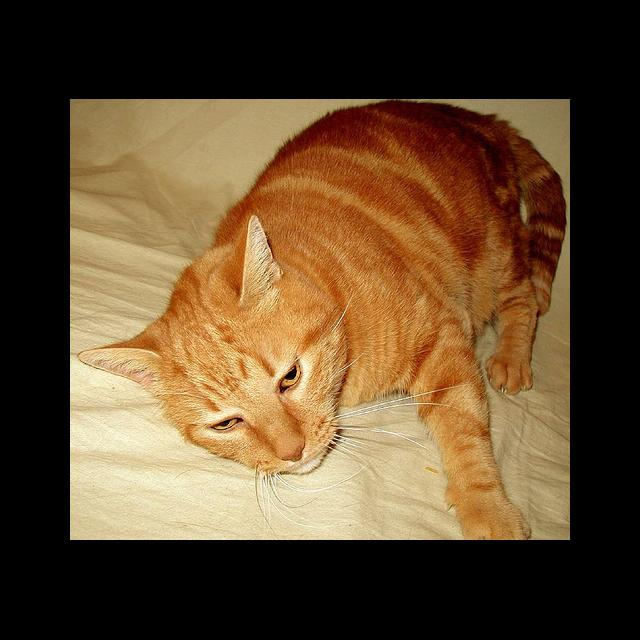animals: (77, 216, 298, 459)
